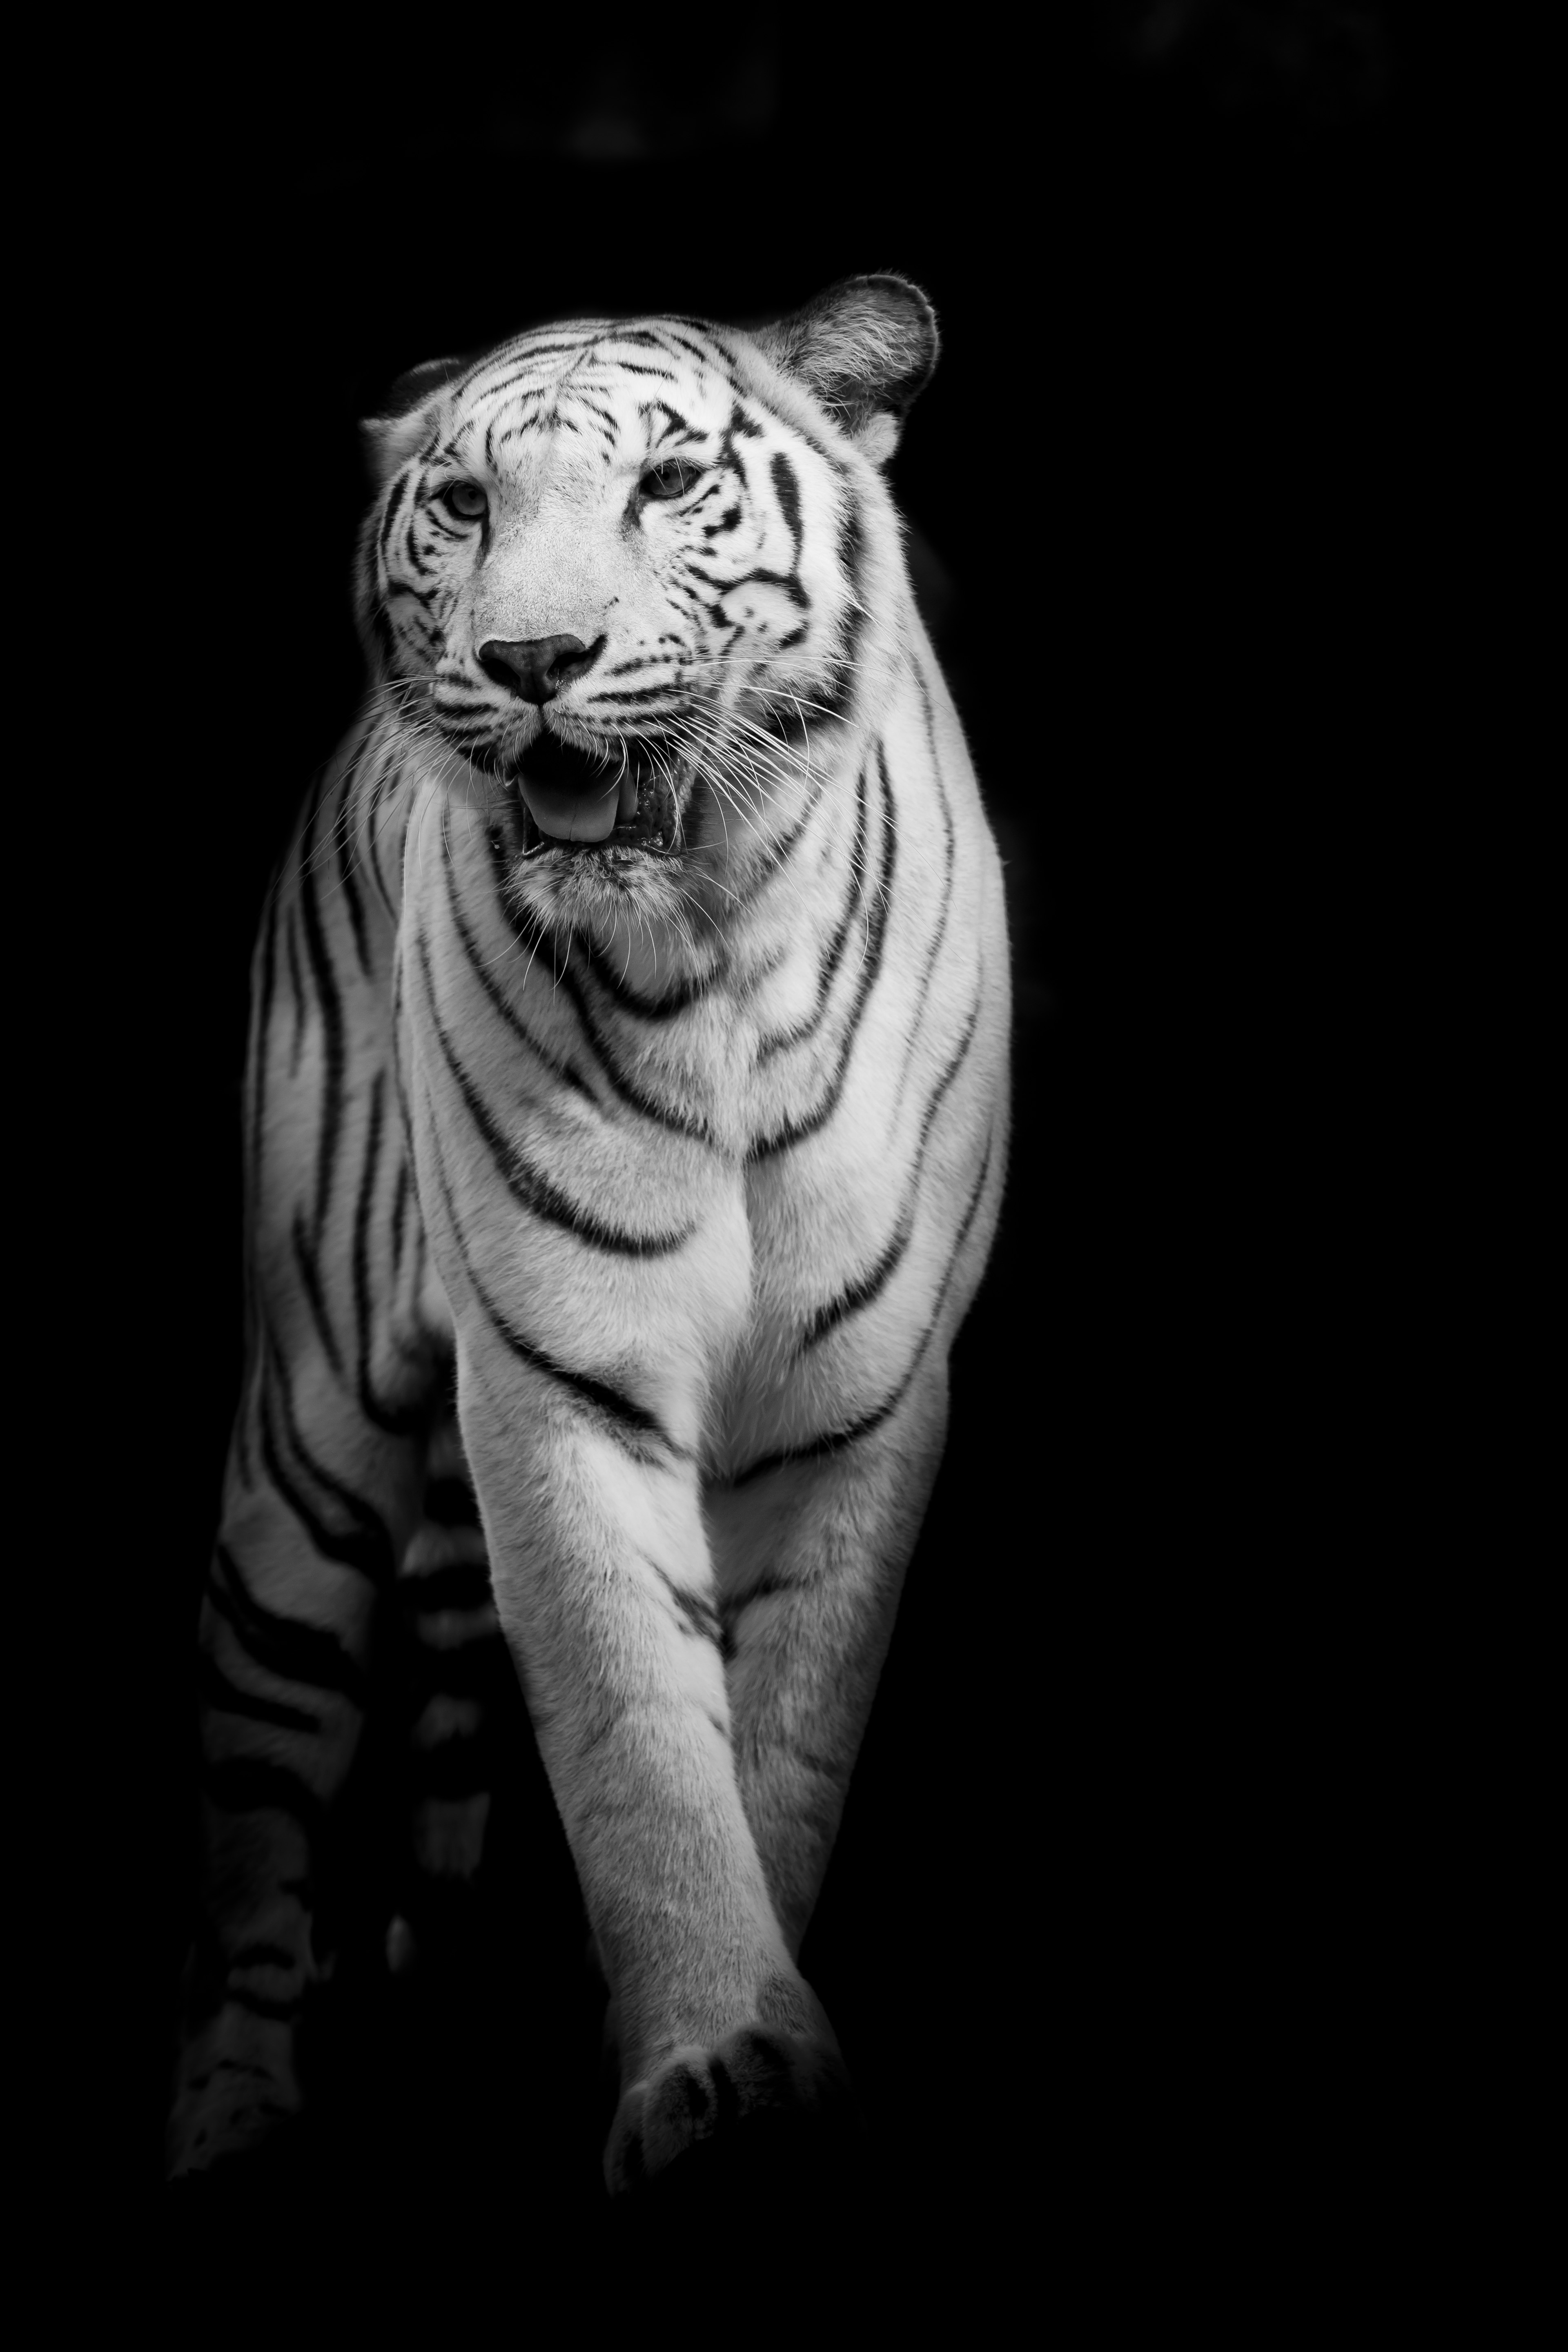tiger: (208, 192, 1090, 2145)
